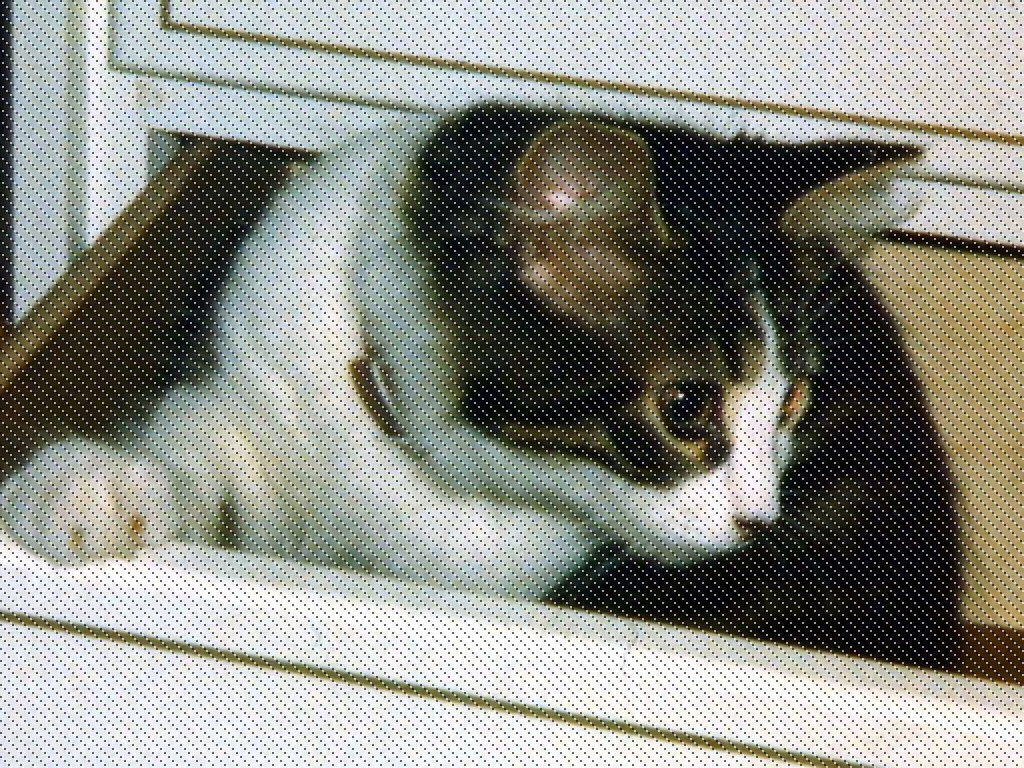Maine coon: (13, 58, 999, 664)
